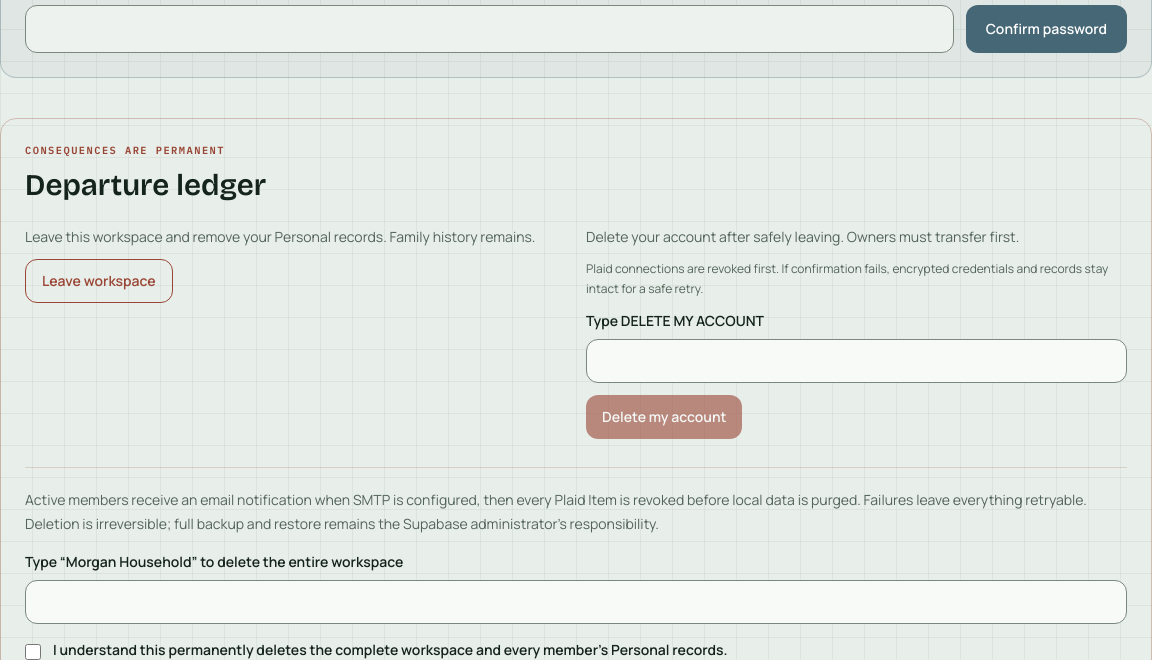
Scenario: GH-12 membership danger zone › FE-004 announces unresolved revocation as retryable, preserves the form, and does not expose secrets
(page scrolled)
In the field with test id "account-deletion-confirmation": point(856, 361) [586,339,1127,383], type "DELETE MY ACCOUNT"
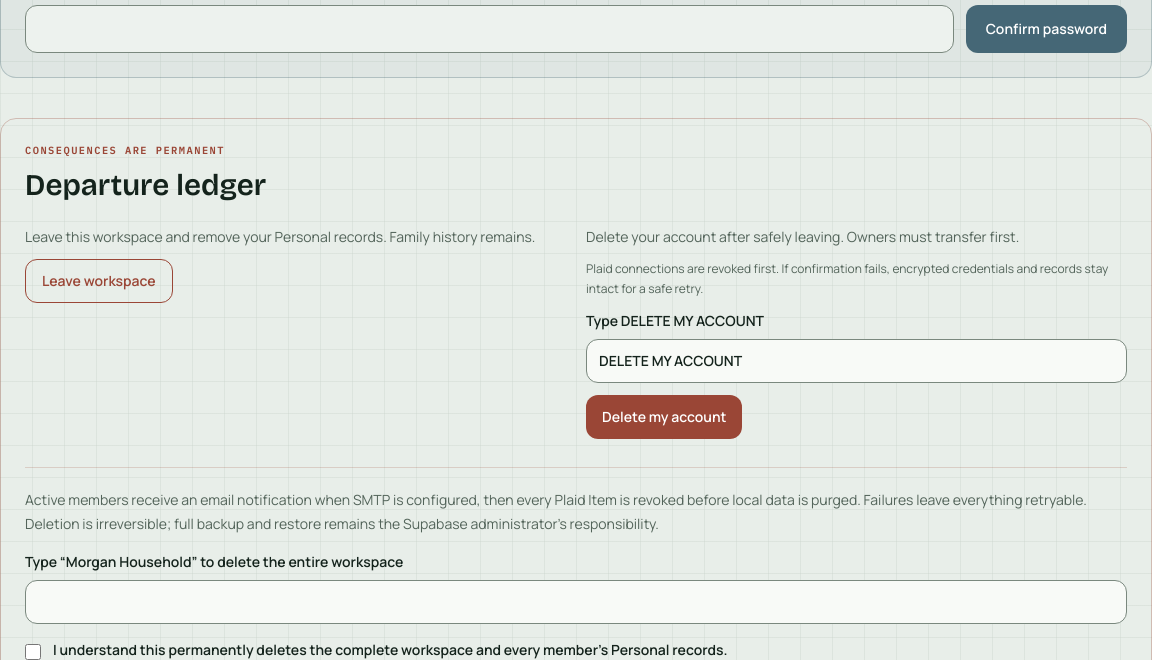
Submit the form with test id "delete-account", box [586,259,1127,439]
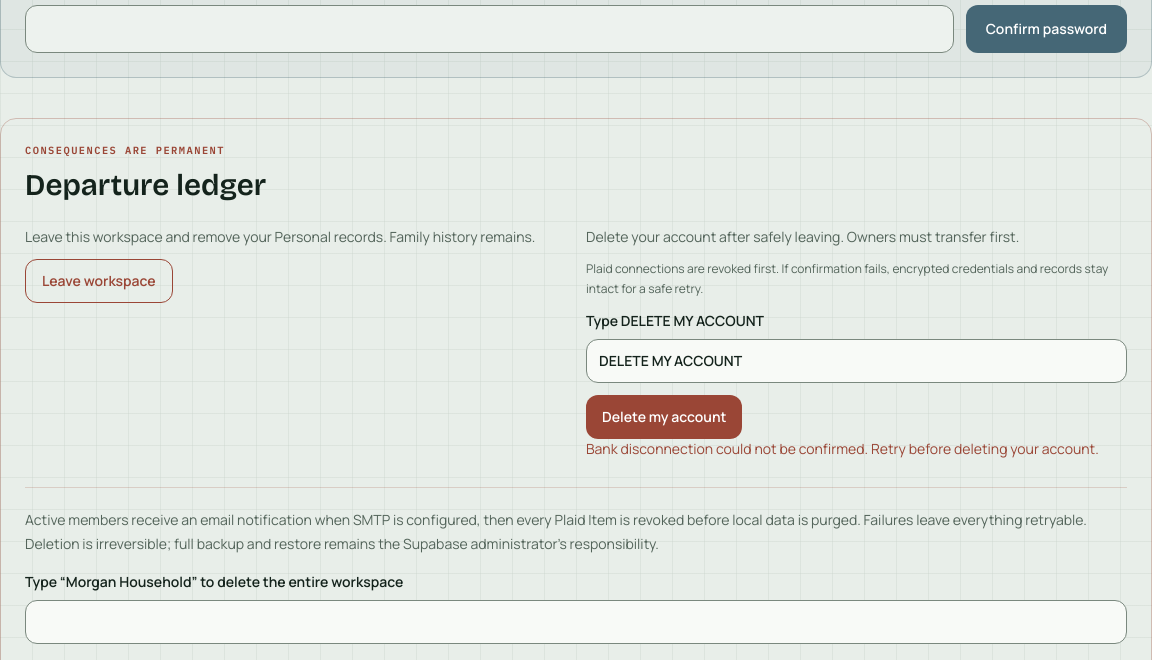
Check: the button with test id "delete-account" is enabled, box [586,395,742,439]
Check: the message reads "Bank disconnection could not be confirmed. Retry before deleting your account.", box [586,439,1099,458]
